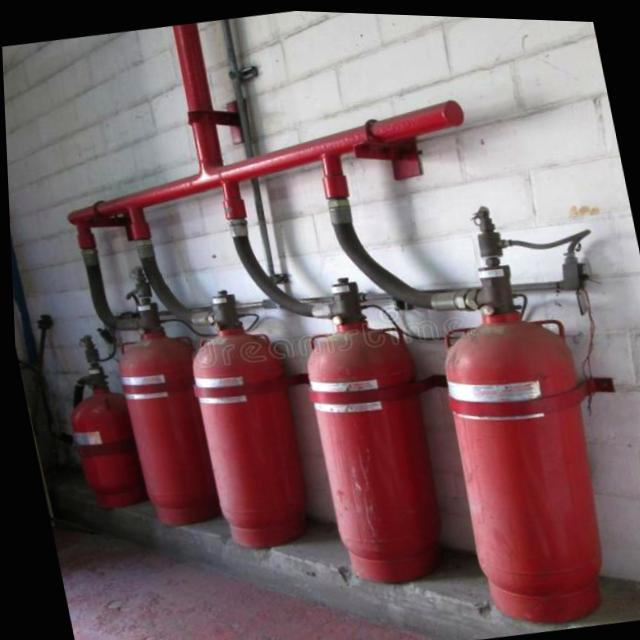FireExtinguisher: (389, 184, 638, 640), (281, 259, 459, 592), (162, 252, 325, 565), (89, 257, 240, 535), (42, 318, 165, 521)
